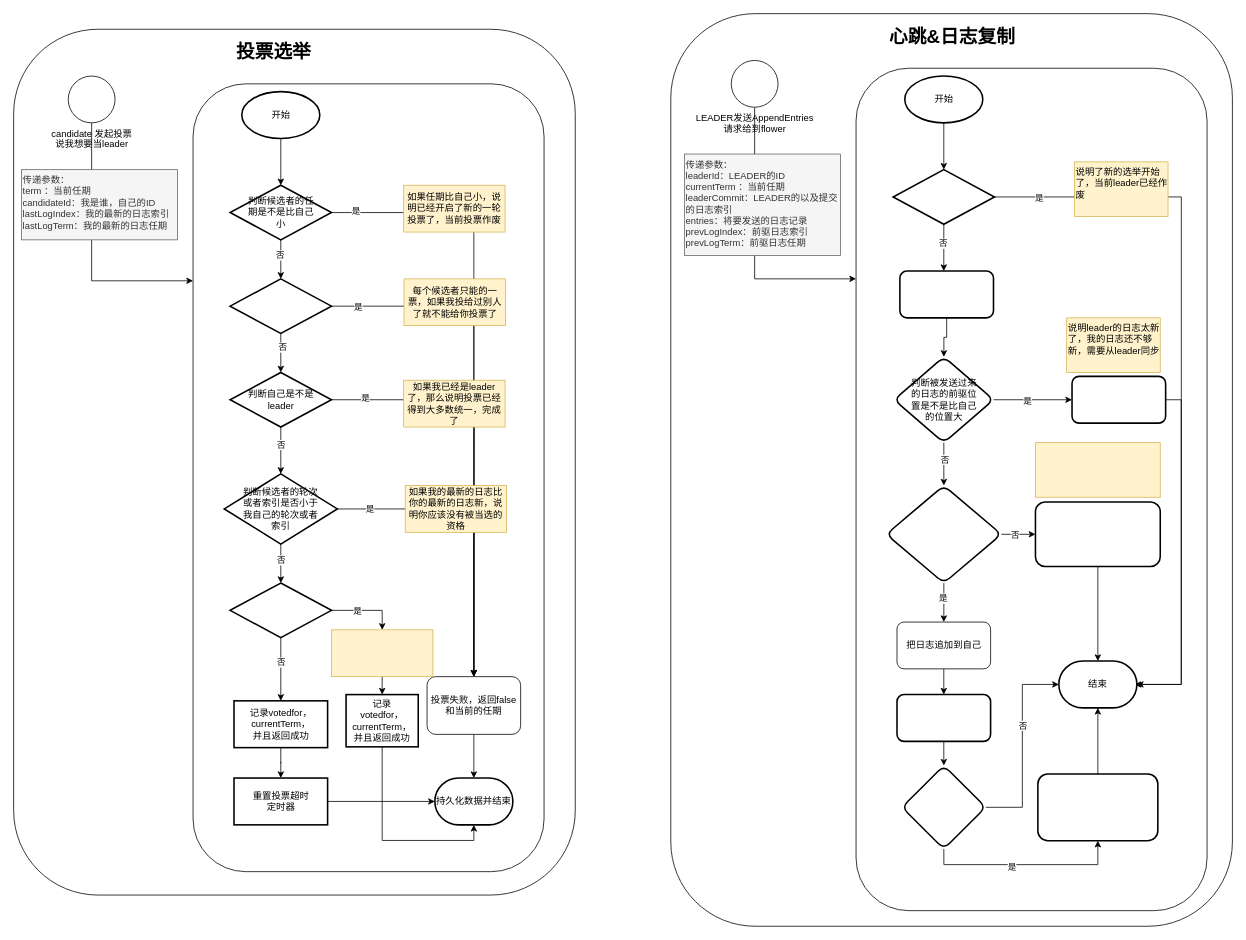
The diagram is 1246 pixels wide and 940 high, and some of its shapes have lost their labels. Each missing label, with the centre of its shape:
"切换为flower，同时如果轮次相等则重置选举定时器" belongs at point 946,294.
"判断leader已经提交的日志是不是大于我已经提交的日志索引" belongs at point 943,806.
"判断leader的任期是不是比自己小" belongs at point 943,196.
"判断我的日志中 prevLogIndex里面的term和传过来的prevLogTerm是不是一样的" belongs at point 943,533.
"判断是否是重复投票" belongs at point 280,610.
"判断自己有没有给别的候选者投过票" belongs at point 280,306.
"如果我已经给你投过票了就不用在重复的投票了" belongs at point 382,653.
"把自己的leaderId设置为参数里面的leaderId" belongs at point 943,717.
"更新我的commitIndex，设置为leader的CommitIndex和我的日志里面最新的索引中最小的一个" belongs at point 1097,807.
"设置返回结果中下一个呀发送的索引为自己的日志索引" belongs at point 1118,399.
"说明网络条件太差，leader选举的过程频繁，导致日志记录混乱，需要重新从leader同步" belongs at point 1097,469.
"返回结果告诉leader日志也发生了错位，需要找到一个匹配的日志的位置，重新复制，并且告诉leader冲突位置的任期和索引" belongs at point 1097,534.
